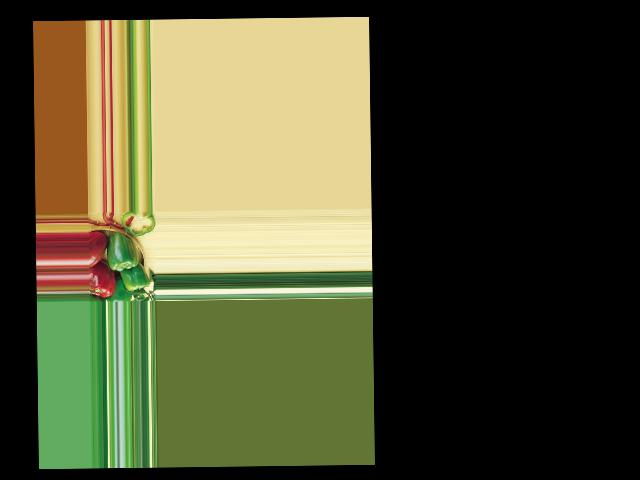bell_pepper: (88, 230, 105, 268)
